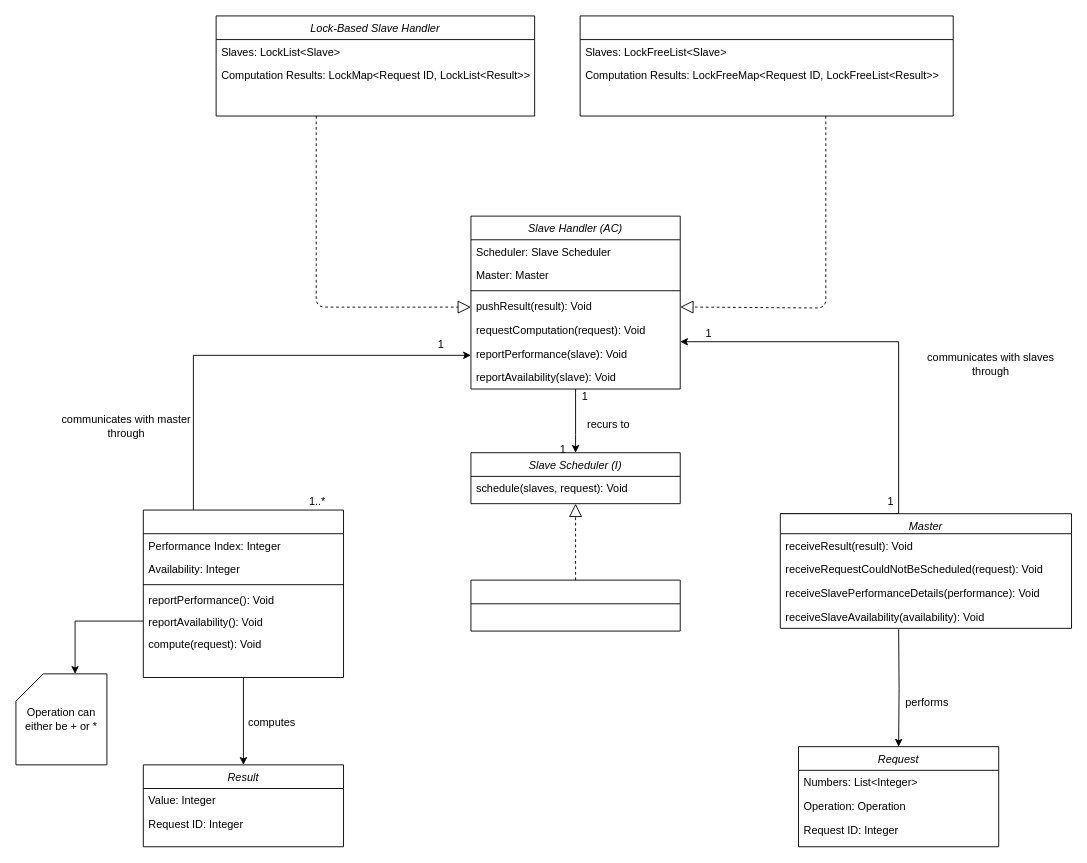
The diagram is 1087 pixels wide and 863 high, and some of its shapes have lost their labels. The shapes that lost their labels are listed below. From the top down, each one's box as (x1, y1, x2, y2) in pixels, then its label:
(579, 15, 953, 116): Lock-Free Slave Handler
(142, 509, 344, 677): Slave
(470, 579, 680, 631): Performance Index Slave Scheduler
